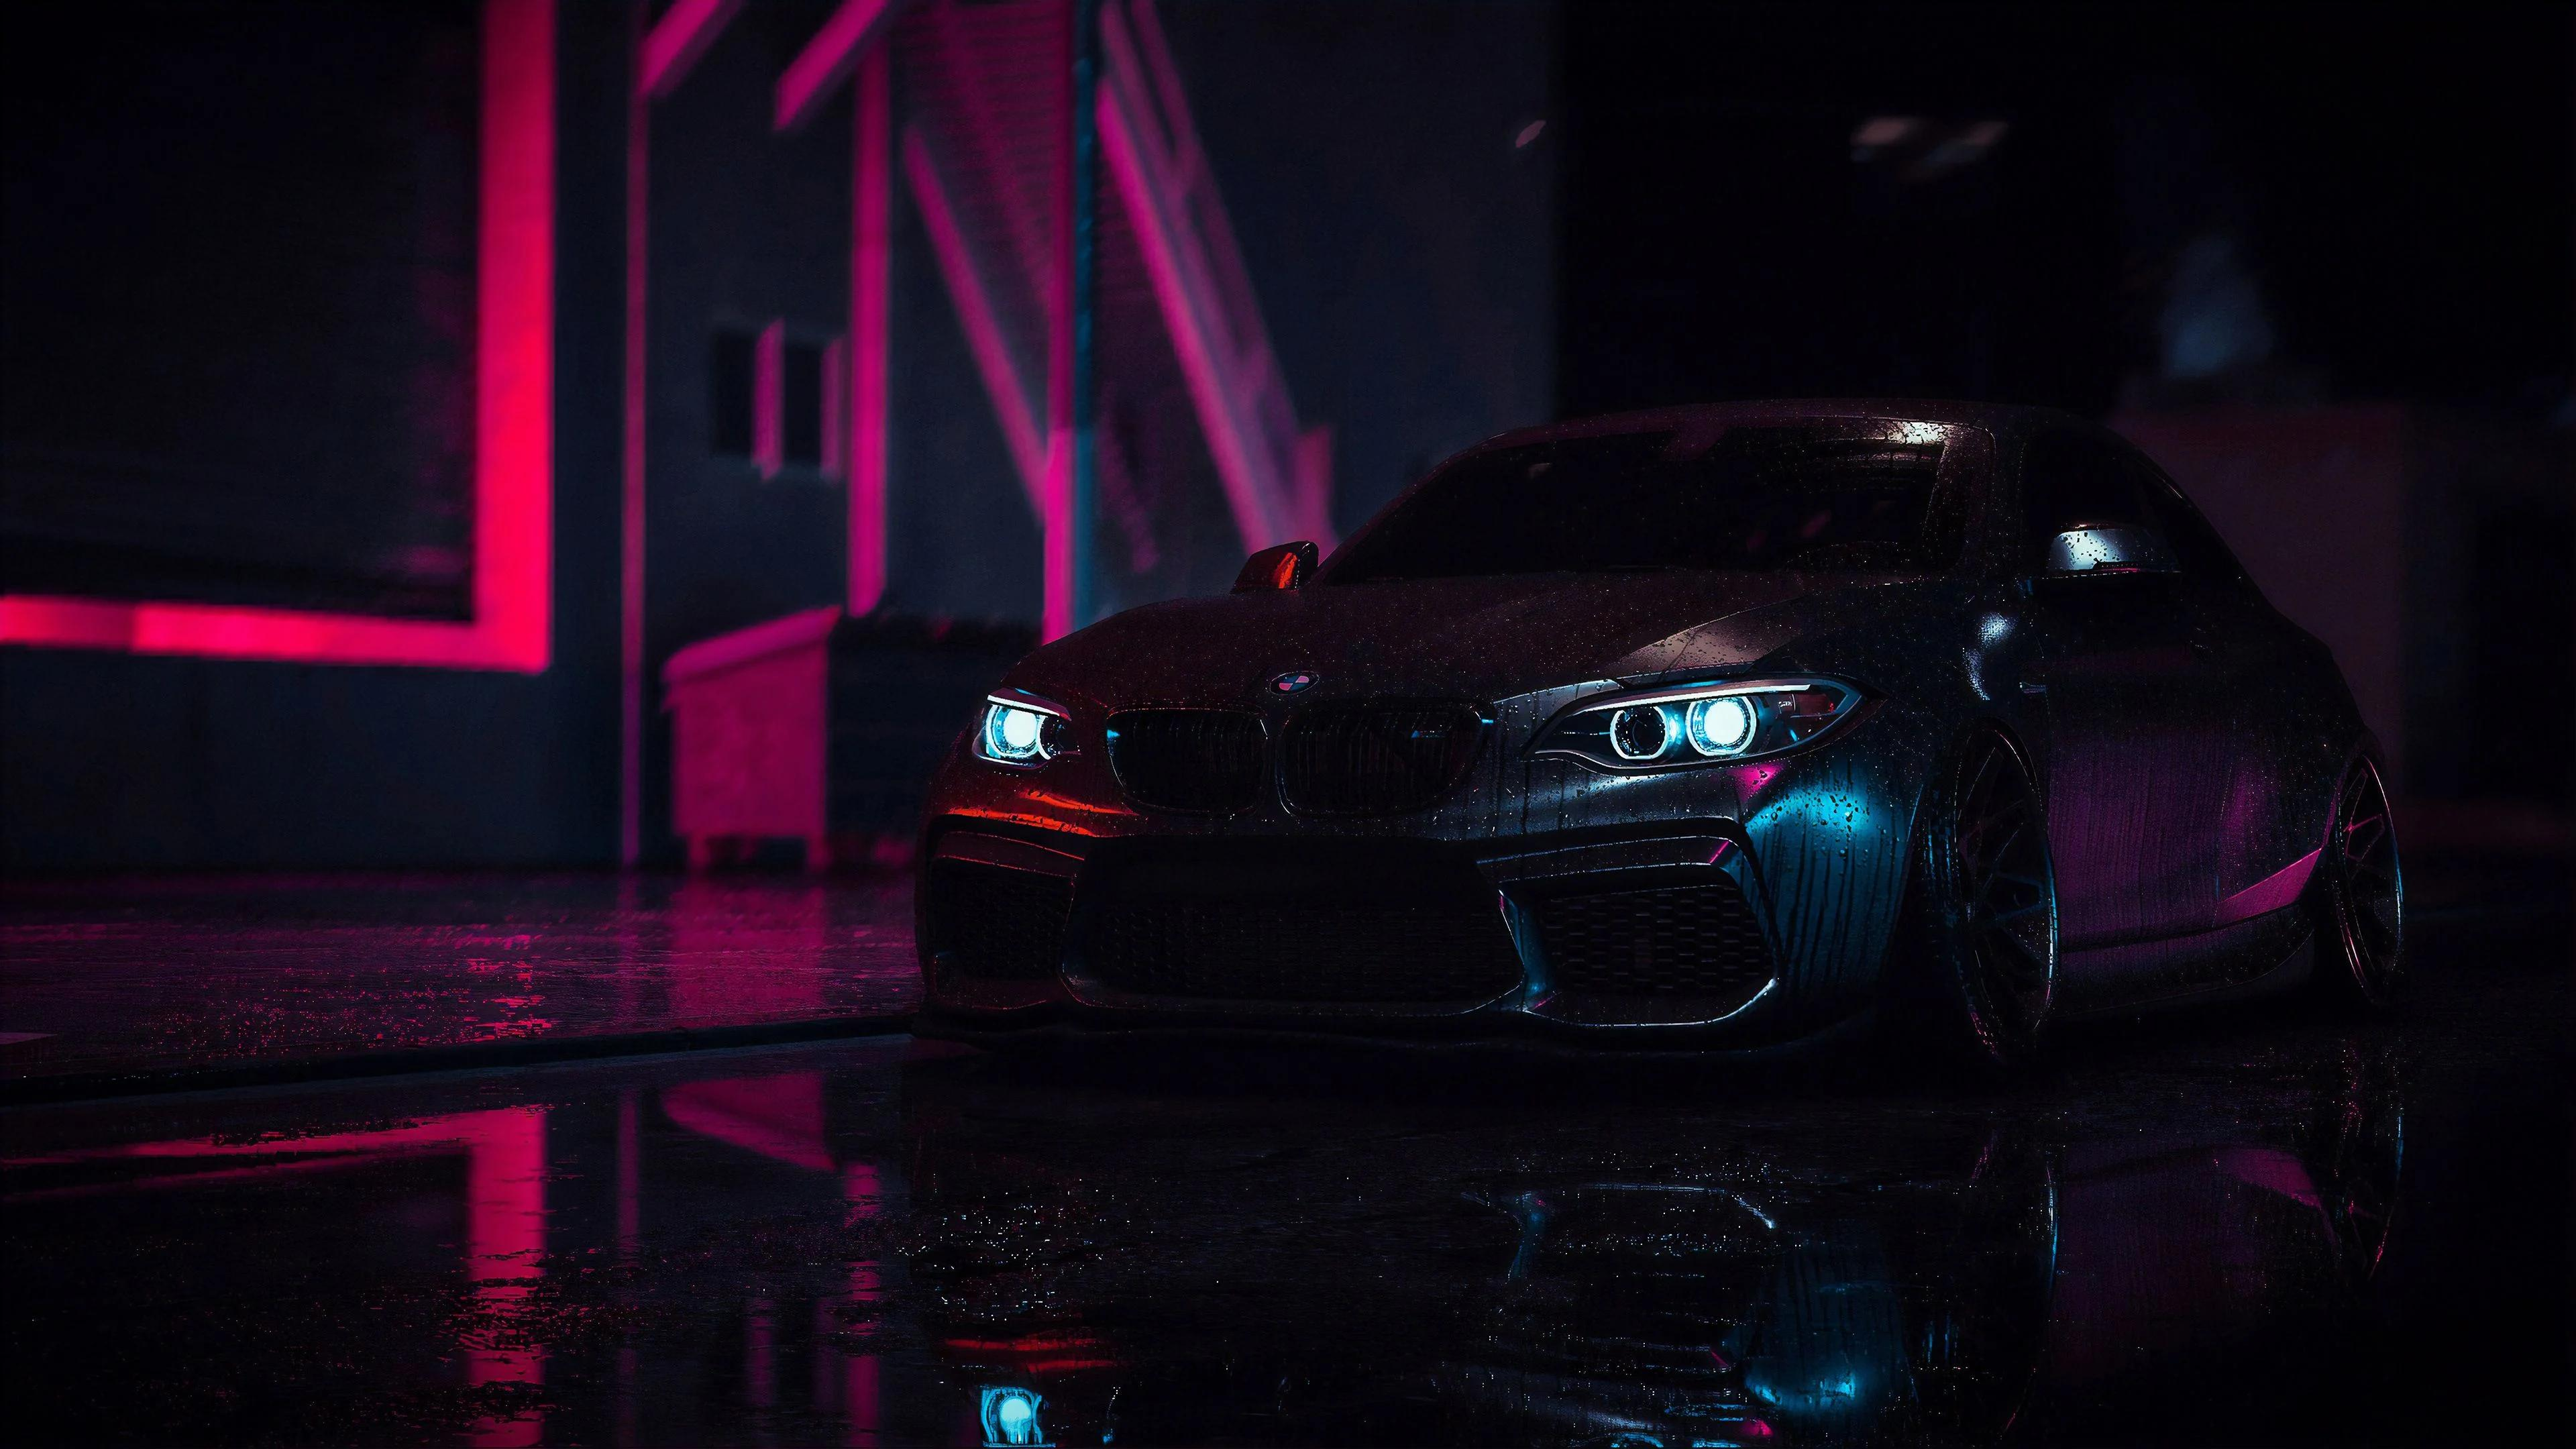Car: (840, 340, 2433, 1136)
